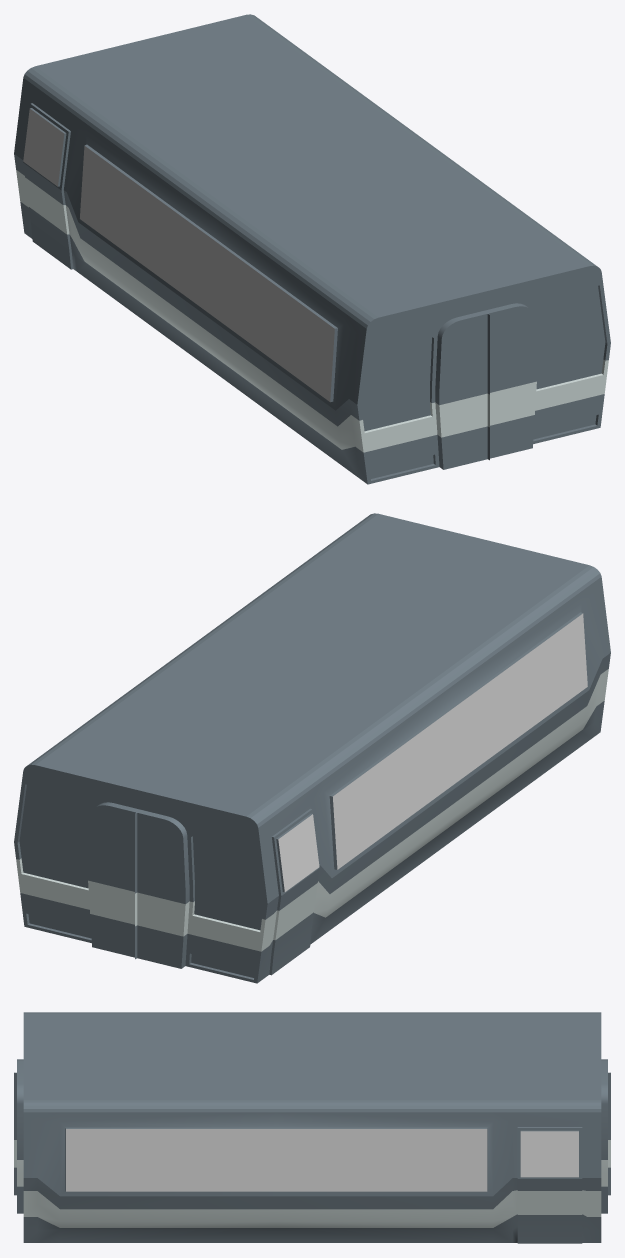
File: Train inerior1.fbx
3 views of the same model, one above another, from view 1: azimuth 30°, elevation 25°; view 2: azimuth 150°, elevation 25°; view 3: azimuth 270°, elevation 25° (orthographic). The views are drawn at different scales.
Visible parts, largest first — view 1: Cube.001, Cube.003; view 2: Cube.001, Cube.003; view 3: Cube.001, Cube.003.
Part boxes in pixels (bbox=[...]): Cube.001: bbox=[14, 14, 610, 484]; Cube.003: bbox=[23, 108, 334, 401]; Cube.001: bbox=[14, 513, 610, 983]; Cube.003: bbox=[278, 613, 587, 891]; Cube.001: bbox=[14, 1012, 610, 1243]; Cube.003: bbox=[66, 1129, 578, 1191].
Size of the model in its own units: 618 by 371 by 1452.
